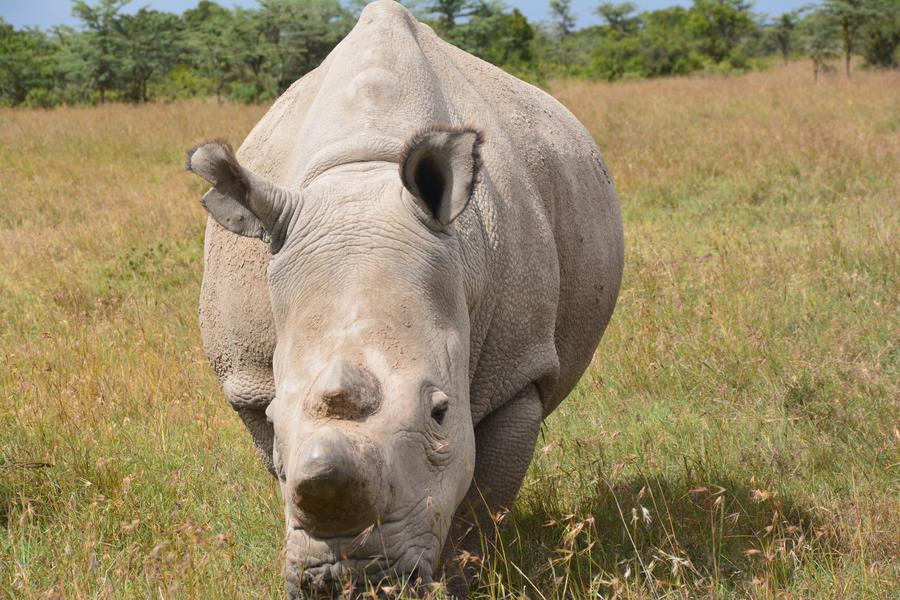rhino: (186, 10, 569, 574)
